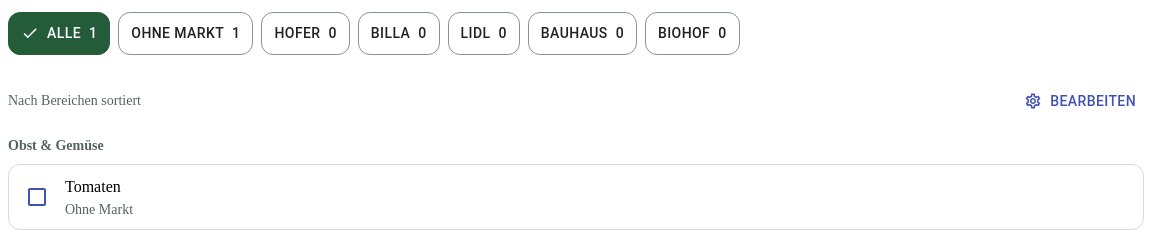
calls the purchase callback without blocking the remaining list
Later steps or results of the test are not shown.
Click the button named "Tomaten als gekauft markieren".
click(37, 197)  # box [13,173,61,221]
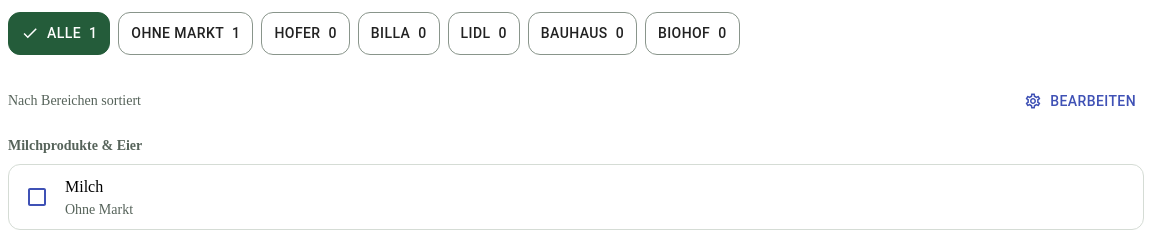
Expected: the text "Milch" is shown, [8,138,142,153]
